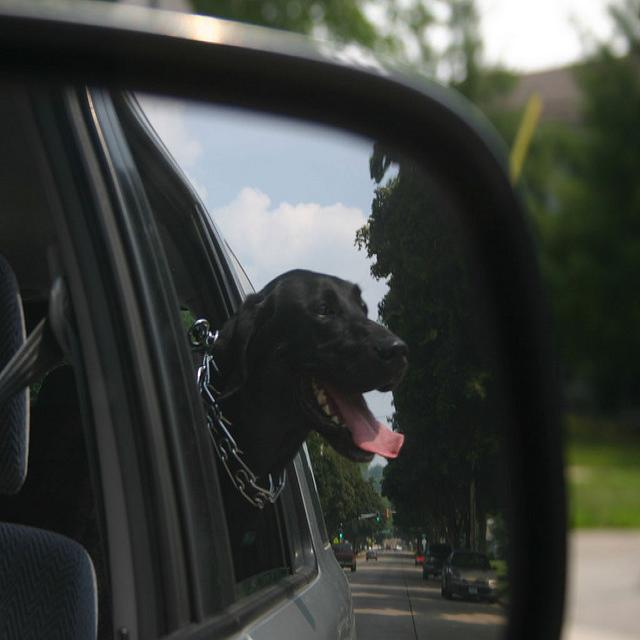Vehicle: (0, 2, 568, 633), (332, 544, 358, 572)
